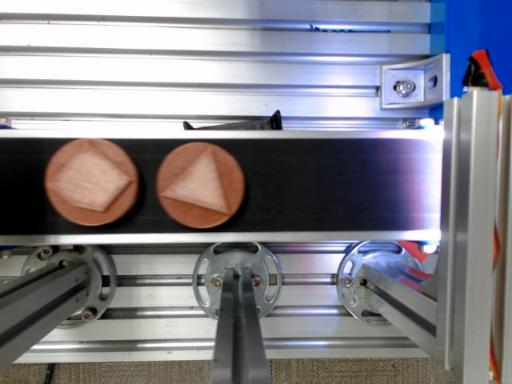Brown_Waper: (44, 139, 138, 226), (156, 142, 245, 228)
